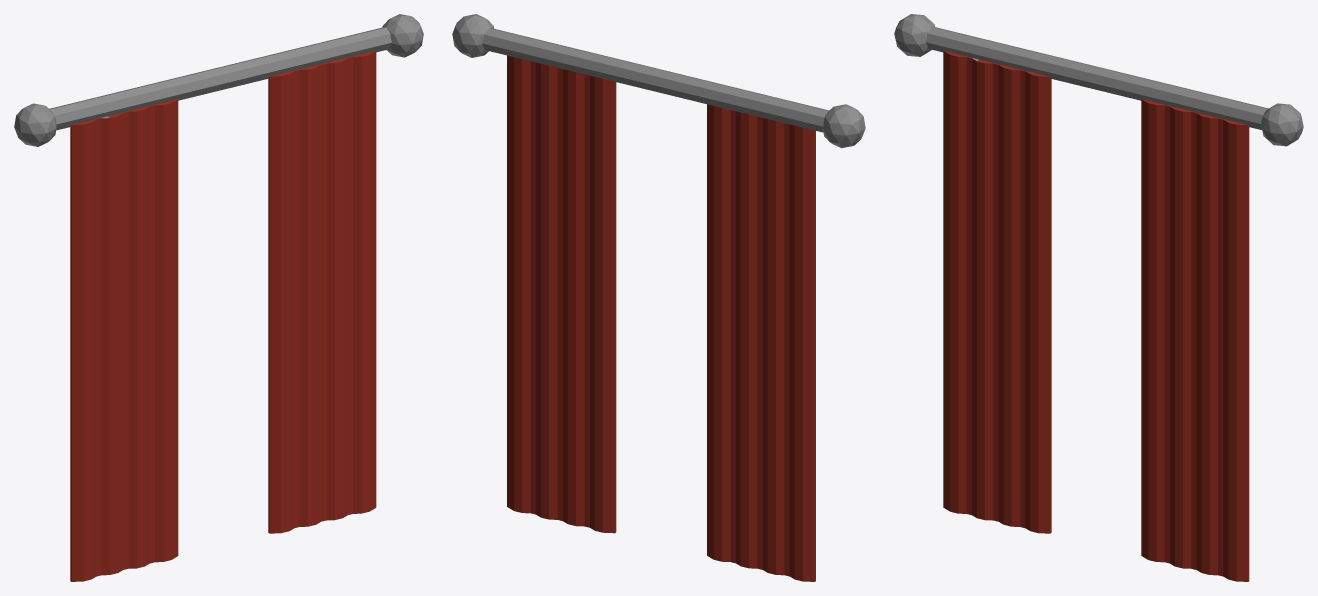
Rendered from Curtains.glb.
The picture shows the model from 3 angles, left to right: view 1: azimuth 30°, elevation 25°; view 2: azimuth 150°, elevation 25°; view 3: azimuth 330°, elevation 25°; orthographic projection.
Parts seen in each view (by area): view 1: Curtains; view 2: Curtains; view 3: Curtains.
Boxes of the visible parts, x1,y1,x2,y2 form: Curtains: (14,14,423,581); Curtains: (452,14,865,581); Curtains: (894,14,1303,581).
Size of the model in its own units: 740 by 845 by 70.26.
